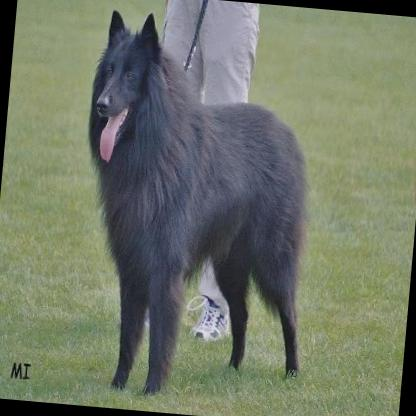groenendael: (62, 6, 329, 410)
